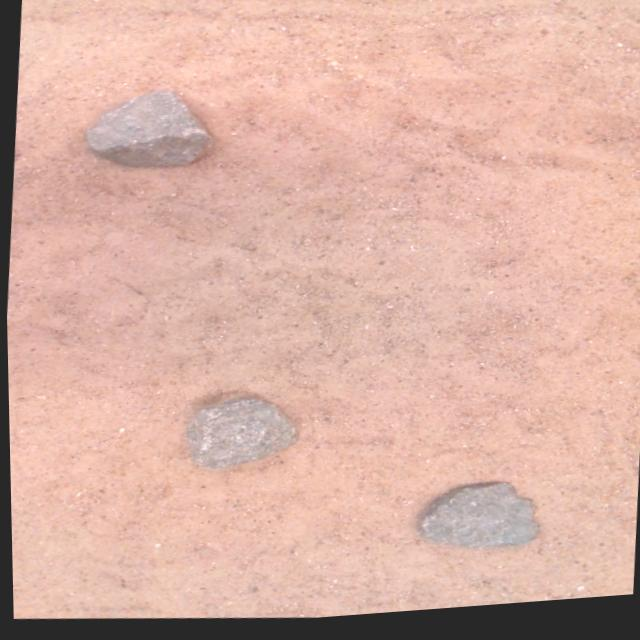rock: (86, 92, 212, 168), (418, 489, 537, 552), (186, 401, 294, 470)
